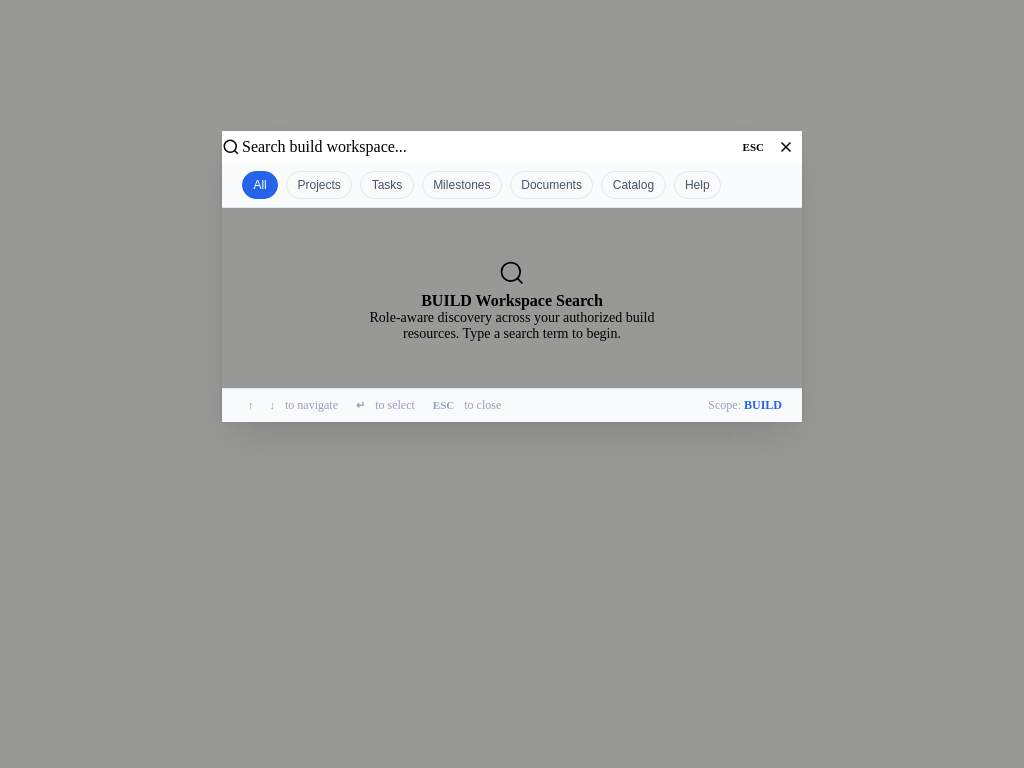
Phase 8 Batch 3: Search & Notifications UI › Global Search Modal › displays empty state when query returns 0 results
Type "unknown-query" into the field with placeholder "Search build workspace...".
click(488, 146); type("unknown-query")  # box [240,136,737,156]
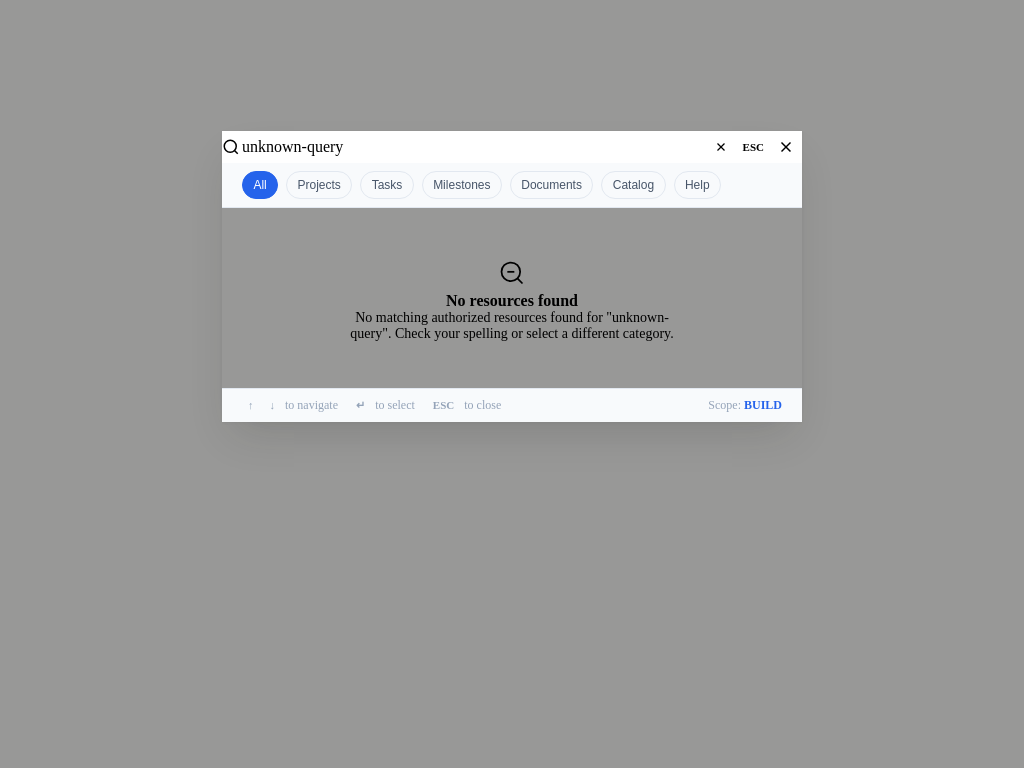
Expected: the heading "No resources found" is shown, [446,292,578,310]
Expected: the text "No matching authorized resources found for \"unknown-query\"" is shown, [350,310,674,340]
